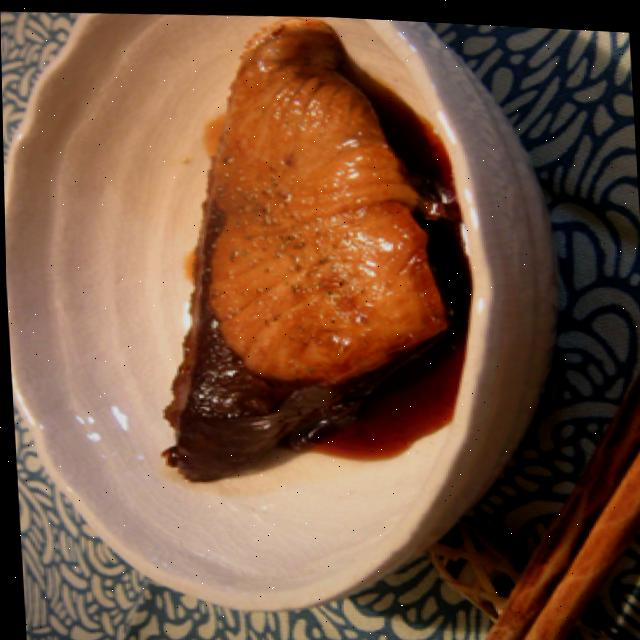熟制海鲜: (106, 4, 494, 512)
